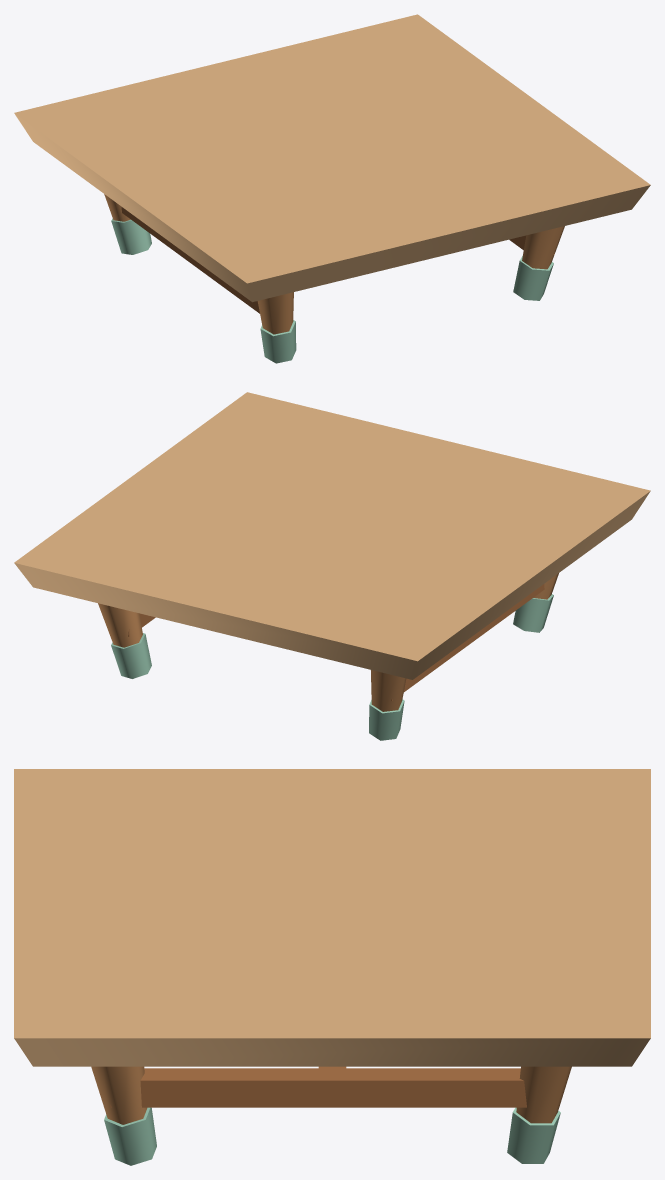
Rendered from Masa 2.fbx.
The picture shows the model from 3 angles, top to bottom: view 1: azimuth 30°, elevation 25°; view 2: azimuth 150°, elevation 25°; view 3: azimuth 270°, elevation 25°; orthographic projection. The views are drawn at different scales.
Parts seen in each view (by area): view 1: top_slab, leg_xz, leg_Xz, foot_xz, foot_Xz, foot_XZ, stretcher_left; view 2: top_slab, leg_xZ, leg_XZ, foot_xZ, foot_XZ, foot_Xz, stretcher_left; view 3: top_slab, stretcher_right, leg_xz, leg_xZ, foot_xz, foot_xZ.
Part boxes in pixels (x1,y1,x2,y2): top_slab: (14,14,650,302); leg_xz: (522,226,564,269); leg_Xz: (257,292,293,334); foot_xz: (513,256,553,300); foot_Xz: (260,320,296,363); foot_XZ: (111,218,151,254); stretcher_left: (121,207,291,318); top_slab: (14,392,650,679); leg_xZ: (98,603,142,647); leg_XZ: (371,670,406,711); foot_xZ: (111,633,151,678); foot_XZ: (369,699,404,740); foot_Xz: (513,594,553,632); stretcher_left: (391,584,544,700); top_slab: (14,769,650,1066); stretcher_right: (110,1068,526,1107); leg_xz: (91,1066,147,1124); leg_xZ: (516,1066,571,1123); foot_xz: (104,1107,156,1165); foot_xZ: (507,1107,560,1163).
Size of the model in its own units: 64.35 by 19.09 by 64.35.
